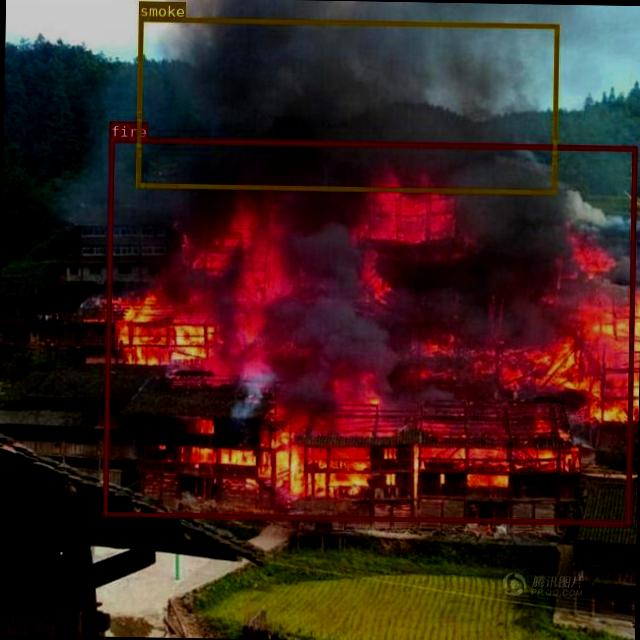fire: (102, 136, 636, 524)
smoke: (136, 16, 558, 193)
